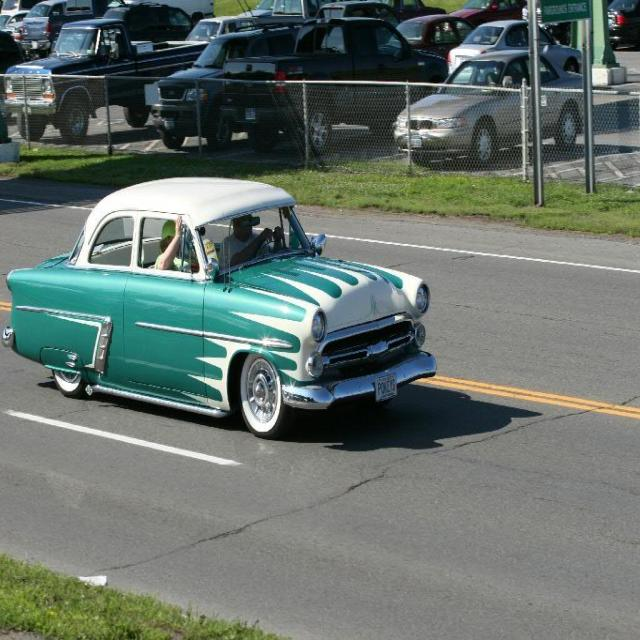car: (0, 173, 437, 434)
